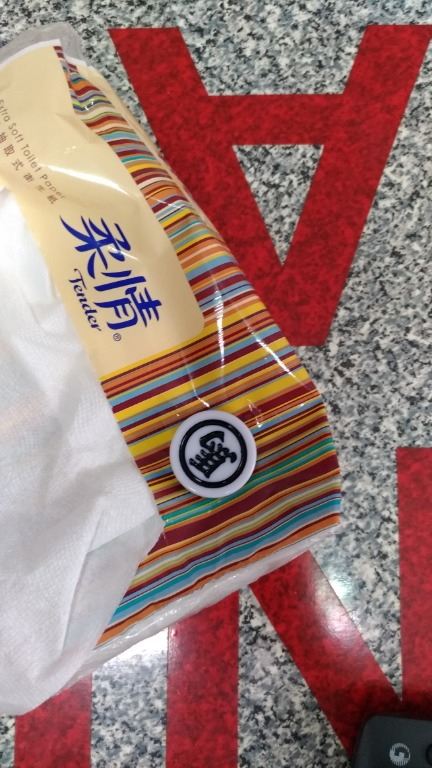b-knight: (150, 400, 291, 504)
